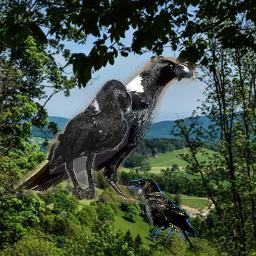Crow: (13, 57, 197, 204), (49, 79, 132, 200), (128, 177, 199, 249)
